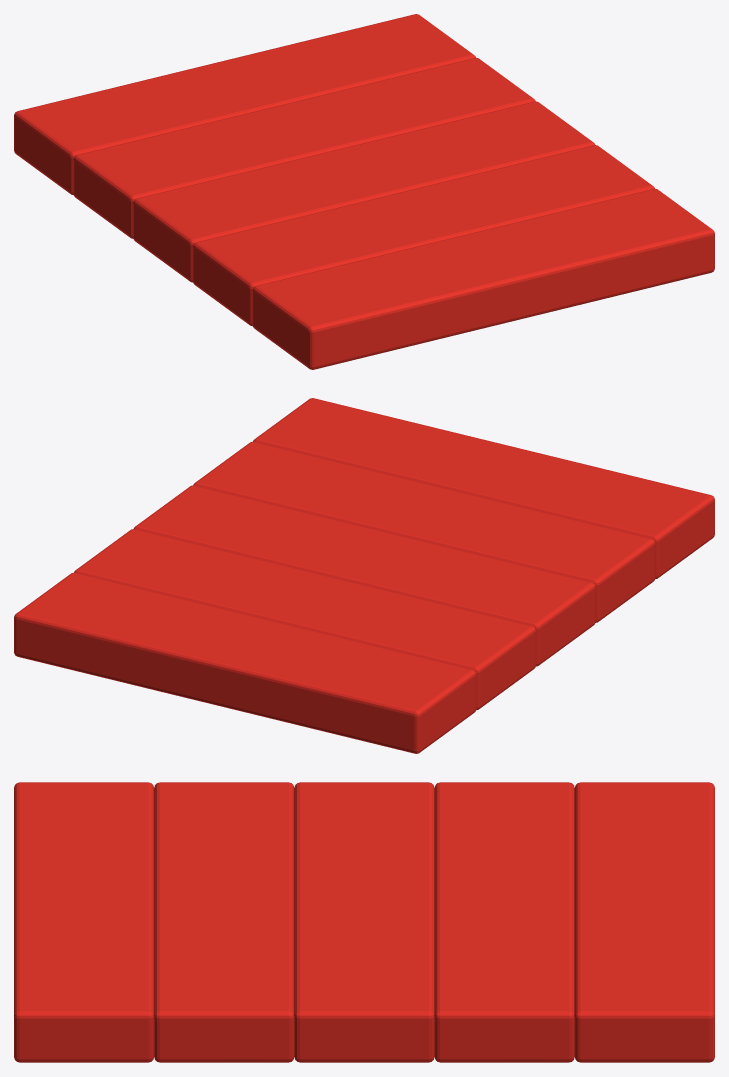
File: Floor.fbx
The picture shows the model from 3 angles, top to bottom: view 1: azimuth 30°, elevation 25°; view 2: azimuth 150°, elevation 25°; view 3: azimuth 270°, elevation 25°; orthographic projection. The views are drawn at different scales.
Parts seen in each view (by area): view 1: Plane; view 2: Plane; view 3: Plane.
Part boxes in pixels (<box>): Plane: <box>14,14,714,369</box>; Plane: <box>14,398,714,753</box>; Plane: <box>14,782,714,1062</box>.
Bounding box in the file's own units: 890 × 90.52 × 1132.
